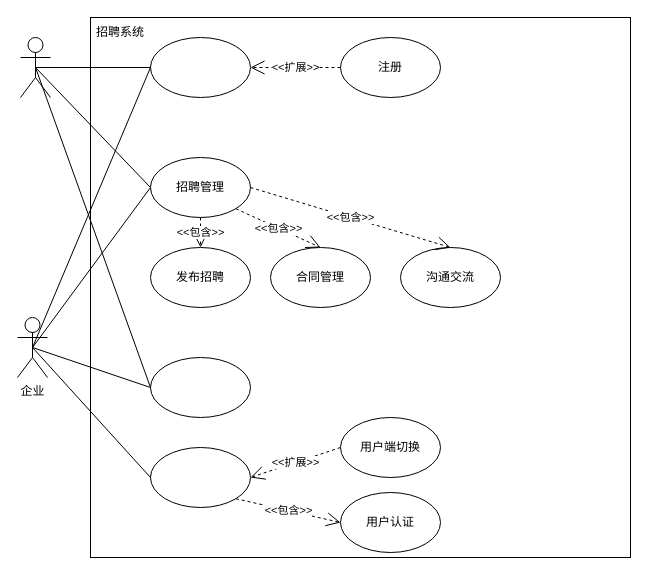
The diagram is 648 pixels wide and 575 high, and some of its shapes have lost their labels. The centre of each missing label's shape, as x and y in pixels:
个人信息管理: point (200, 387)
人才: point (35, 67)
后台管理: point (200, 477)
登录管理: point (200, 67)
